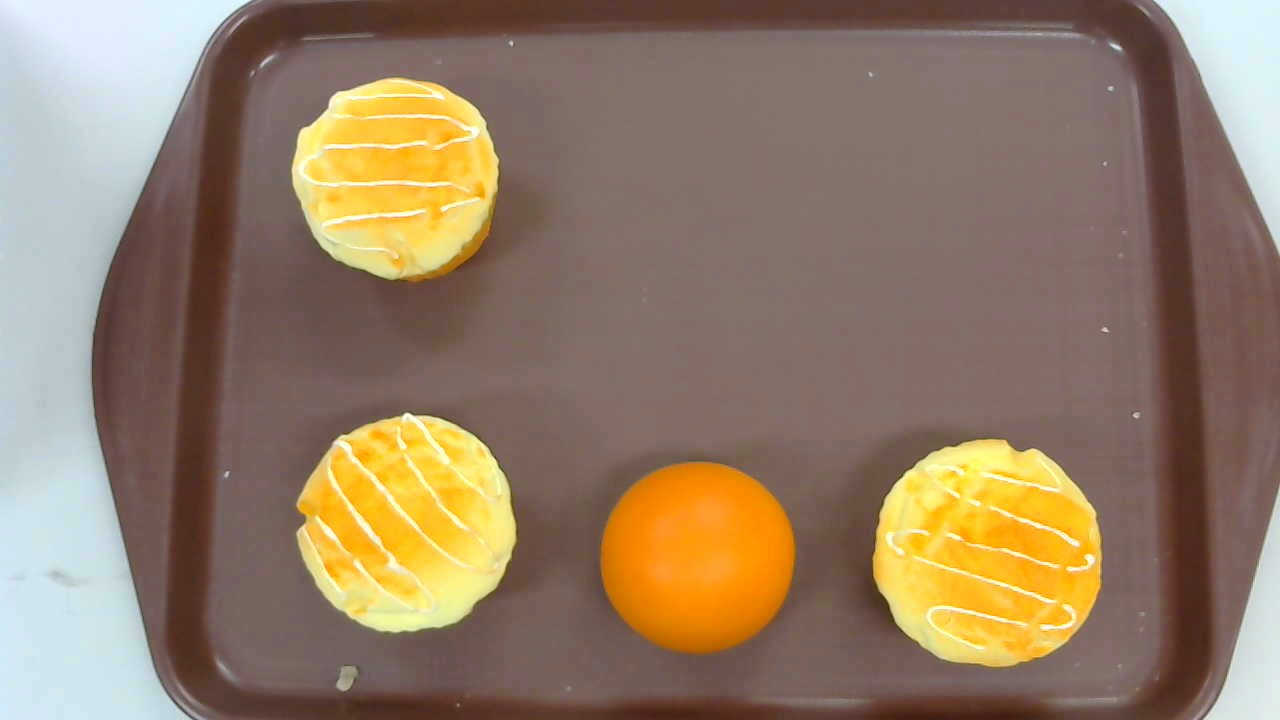bun: (599, 461, 795, 656)
cupcake: (871, 438, 1102, 669), (296, 411, 519, 635), (291, 74, 500, 282)
